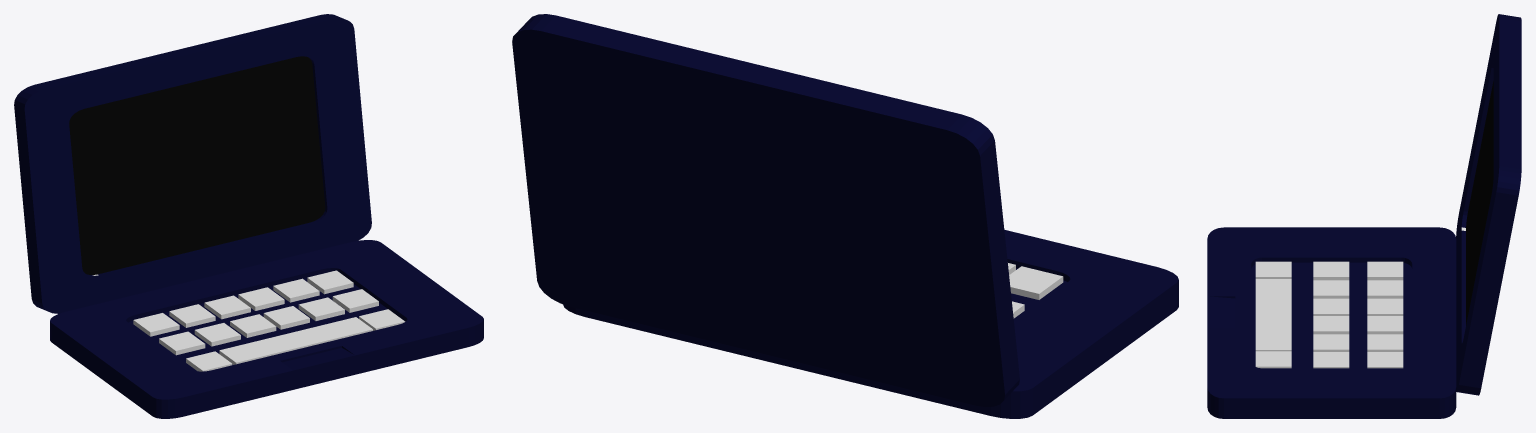
Rendered from laptop_navy.fbx.
3 renders of one model, left to right at view 1: azimuth 30°, elevation 25°; view 2: azimuth 150°, elevation 25°; view 3: azimuth 270°, elevation 25°, orthographic. The views are drawn at different scales.
Visible parts, largest first — view 1: Laptop_navy; view 2: Laptop_navy; view 3: Laptop_navy.
Boxes of the visible parts, left/top/right/bottom form: Laptop_navy: left=14, top=14, right=483, bottom=418; Laptop_navy: left=512, top=14, right=1178, bottom=418; Laptop_navy: left=1207, top=14, right=1521, bottom=418.
Size of the model in its own units: 76.53 by 50.42 by 59.45.
